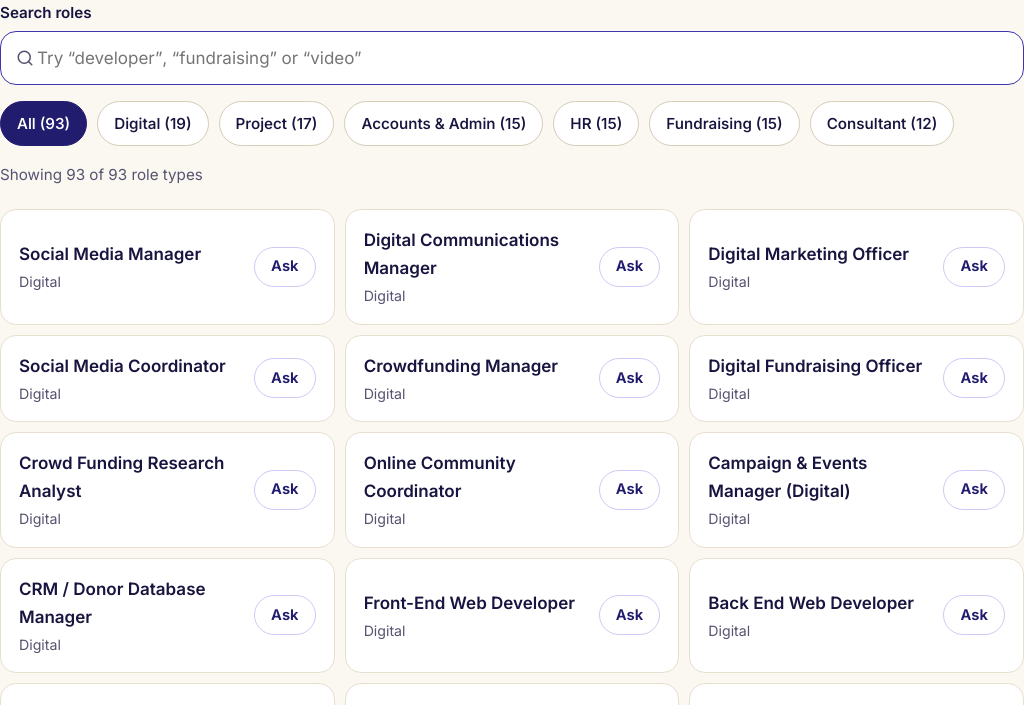
Scenario: RoleBrowser › filters by department and reflects the pressed state
This screenshot has width=1024, height=705.
What coordinates should you click on to do the following:
click the button "Consultant (12)"
I would click on:
 (882, 124)
Its box is [810,101,954,146].
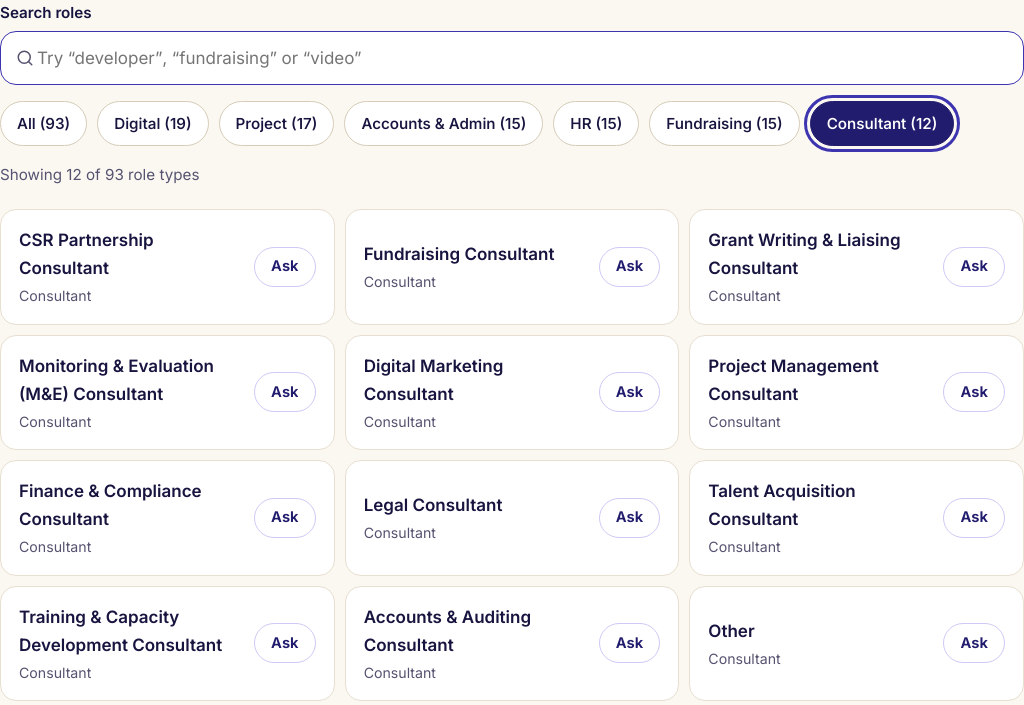
Expected: the text "Legal Consultant" is shown, [364,495,502,515]
Expected: the text "Front-End Web Developer" is gone
